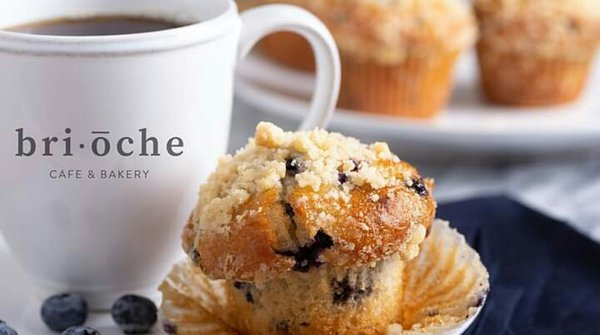pizza: (0, 1, 344, 318), (0, 0, 244, 326)
soup: (156, 123, 489, 332)
